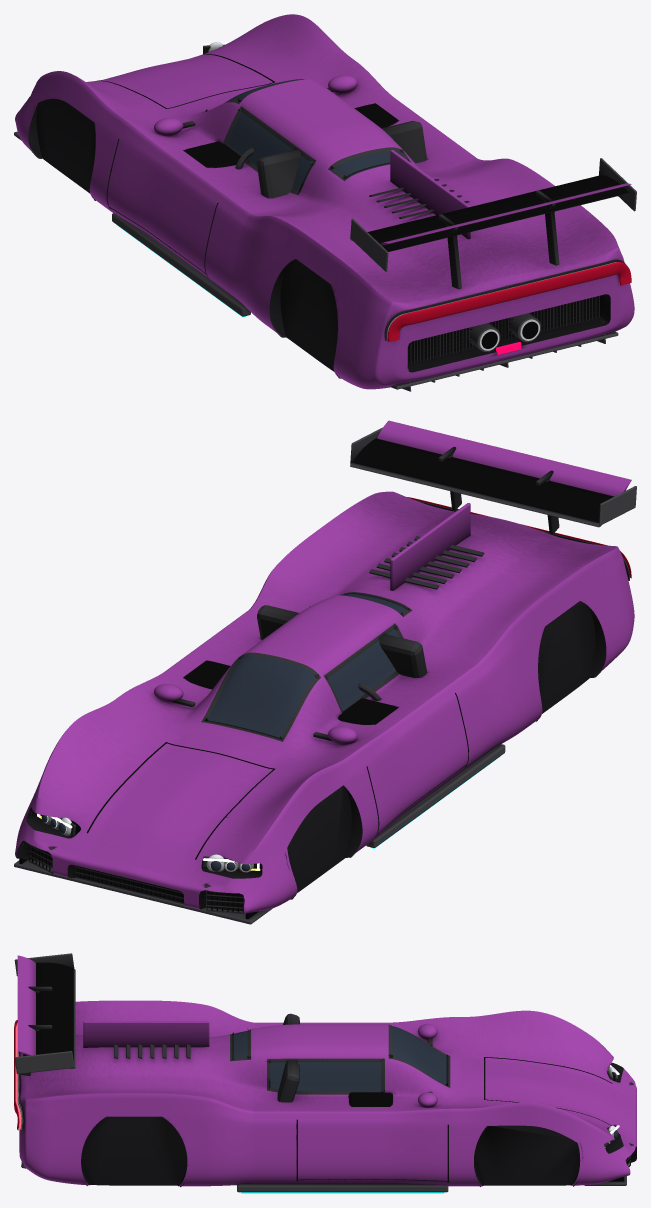
The model's file is proto.glb.
3 views of the same model, one above another, from view 1: azimuth 30°, elevation 25°; view 2: azimuth 150°, elevation 25°; view 3: azimuth 270°, elevation 25° (orthographic). The views are drawn at different scales.
Parts seen in each view (by area): view 1: body, wing, tail_lens, glass_panes, object 9, part.064, part.068, seat.001, dash, seat.003, part.047, wing.001 (+5 smaller); view 2: body, wing, glass_panes, wing.001, part.064, dash, part.068, part.065, seat.001, object 6, part.058, seat.003; view 3: body, glass_panes, wing, part.064, part.070, wing.001, part.061, seat.003, dash, part.058, part.071.
Boxes of the visible parts, x1,y1,x2,y2 form: body: [15, 14, 634, 389]; wing: [350, 175, 629, 251]; tail_lens: [388, 262, 631, 341]; glass_panes: [227, 79, 404, 190]; object 9: [407, 296, 599, 364]; part.064: [390, 150, 470, 239]; part.068: [112, 213, 250, 316]; seat.001: [257, 149, 301, 198]; dash: [183, 103, 398, 167]; seat.003: [381, 121, 426, 162]; part.047: [390, 331, 618, 389]; wing.001: [379, 183, 631, 245]; body: [15, 491, 634, 913]; wing: [350, 437, 613, 527]; glass_panes: [207, 594, 406, 737]; wing.001: [377, 420, 631, 496]; part.064: [390, 503, 470, 590]; dash: [183, 660, 398, 724]; part.068: [366, 744, 505, 847]; part.065: [14, 859, 272, 924]; seat.001: [379, 633, 426, 677]; object 6: [75, 865, 184, 904]; part.058: [599, 486, 636, 525]; seat.003: [257, 605, 298, 639]; body: [19, 1000, 636, 1186]; glass_panes: [233, 1026, 446, 1091]; wing: [23, 962, 75, 1068]; part.064: [83, 1021, 209, 1047]; part.070: [237, 1183, 448, 1192]; wing.001: [17, 955, 35, 1055]; part.061: [14, 1051, 74, 1073]; seat.003: [277, 1060, 299, 1102]; dash: [348, 1092, 392, 1106]; part.058: [14, 953, 74, 976]; part.071: [241, 1192, 444, 1193].
Size of the model in its own units: 2.01 by 1.23 by 4.95.
